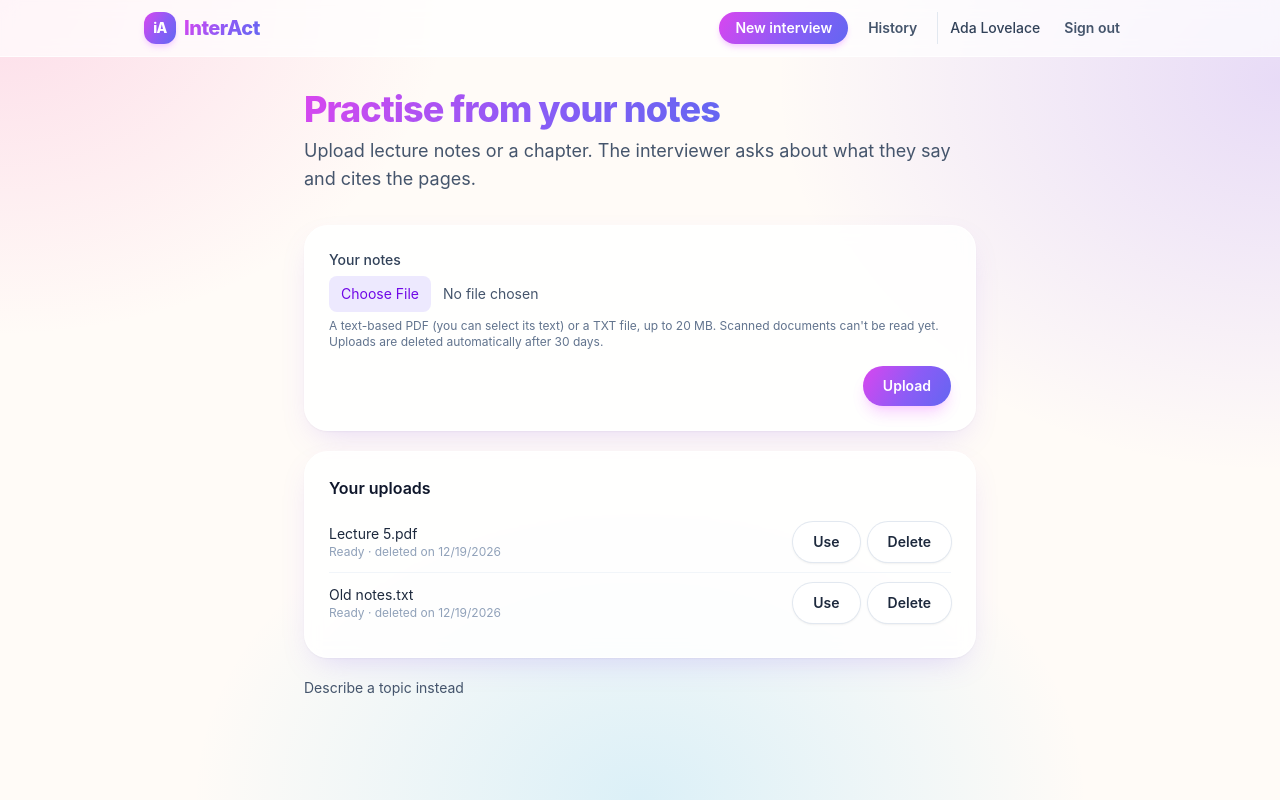
Test: earlier uploads › can be reused or deleted
Click the button with aria-label "Delete Old notes.txt" at (909, 603), box [868,583,951,623]
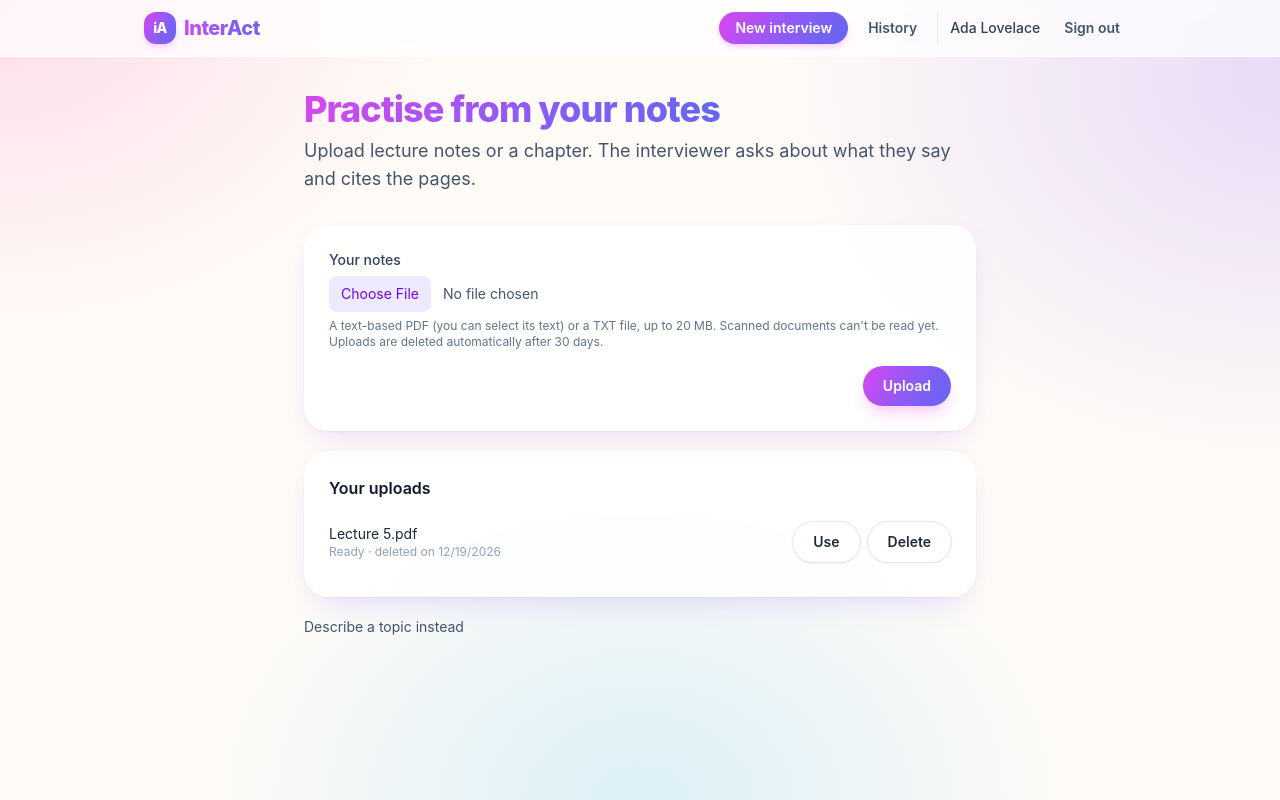
expect the text "Old notes.txt" is gone: met
Click the button "Use" at (826, 542), box [793,522,860,562]
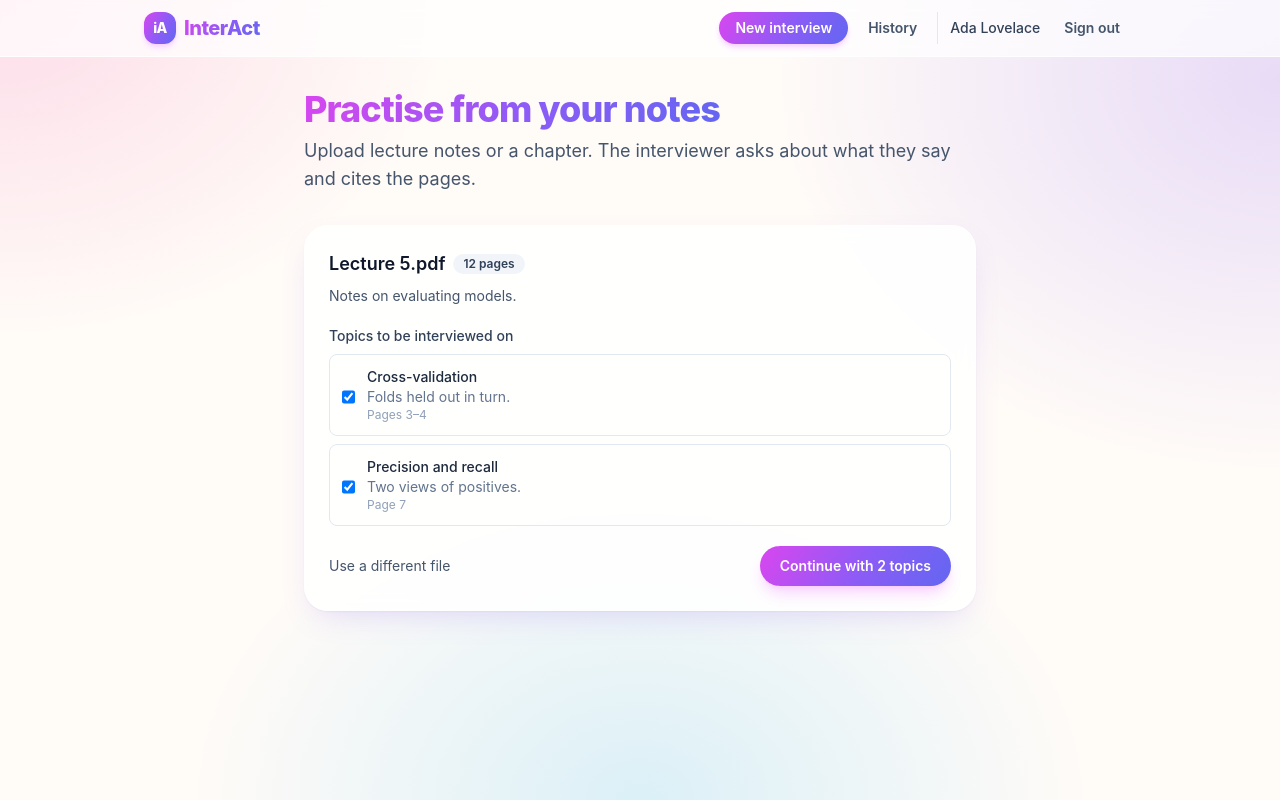
expect the text "Cross-validation" is shown: met, box [367,368,477,385]
